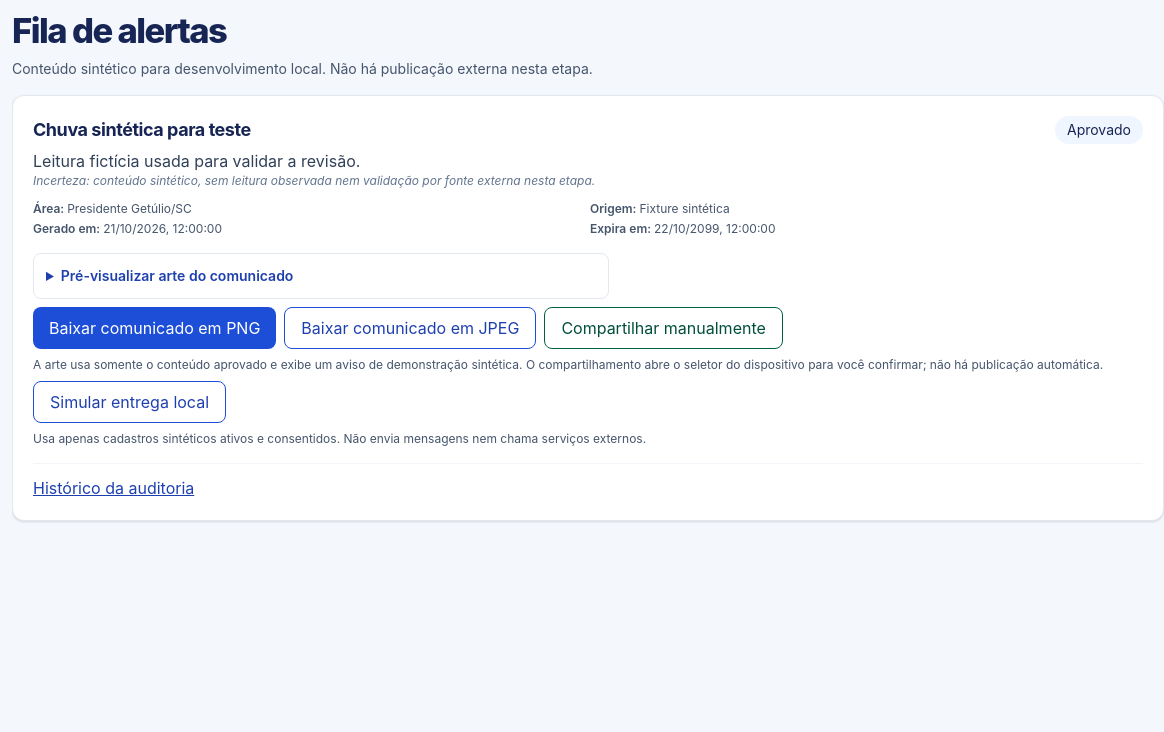
Scenario: AlertBoard review workflow › offers manual sharing for an approved alert and leaves the final publish confirmation to the operator
Click the button "Compartilhar manualmente". click: (664, 328)
box: [544,307,783,349]
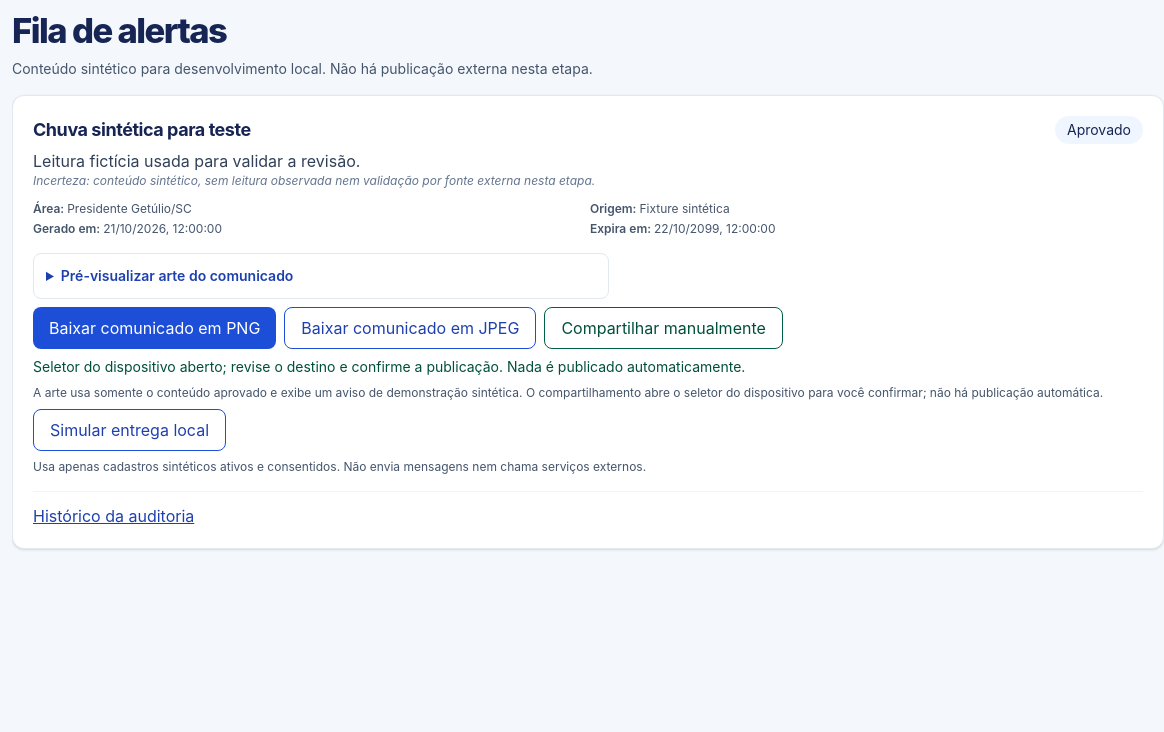
Expected: the text "revise o destino e confirme a publicação" is shown, [33,358,745,375]
